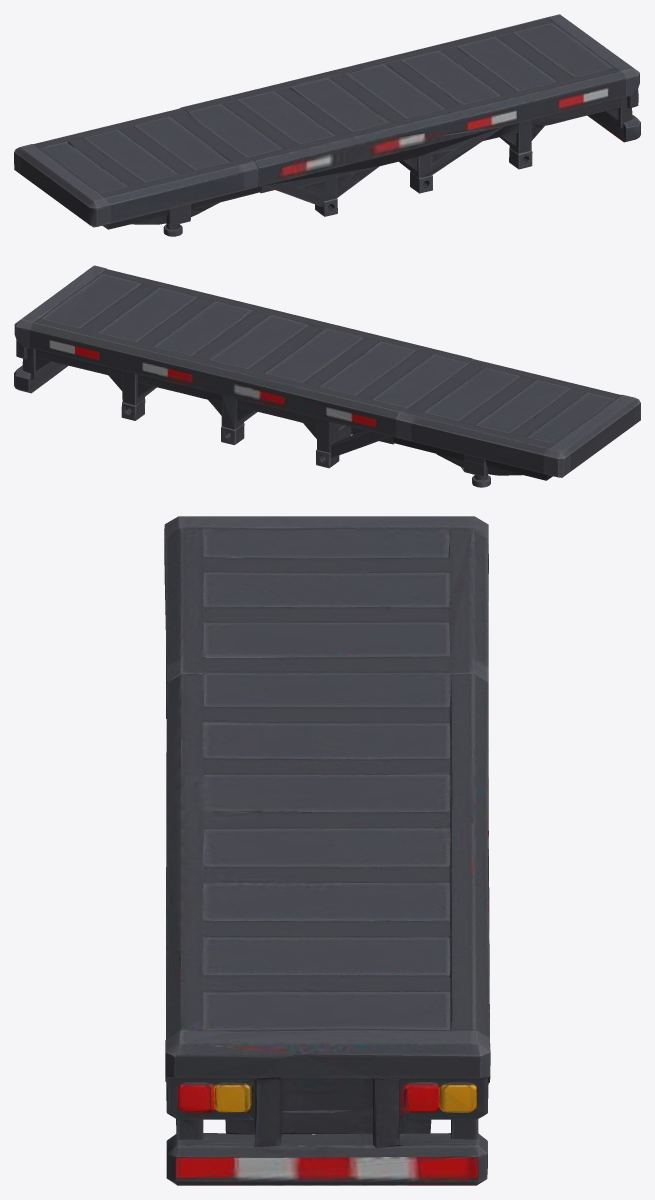
The model's file is remolque_grande.glb.
3 renders of one model, top to bottom at view 1: azimuth 30°, elevation 25°; view 2: azimuth 150°, elevation 25°; view 3: azimuth 270°, elevation 25°, orthographic. The views are drawn at different scales.
Bounding box in the file's own units: 1.9 × 0.2389 × 0.4875.
Materials: 1 (1 with a texture image).
